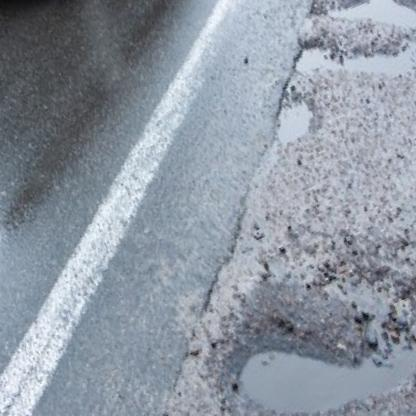pothole: (211, 274, 416, 416), (314, 0, 416, 65)
